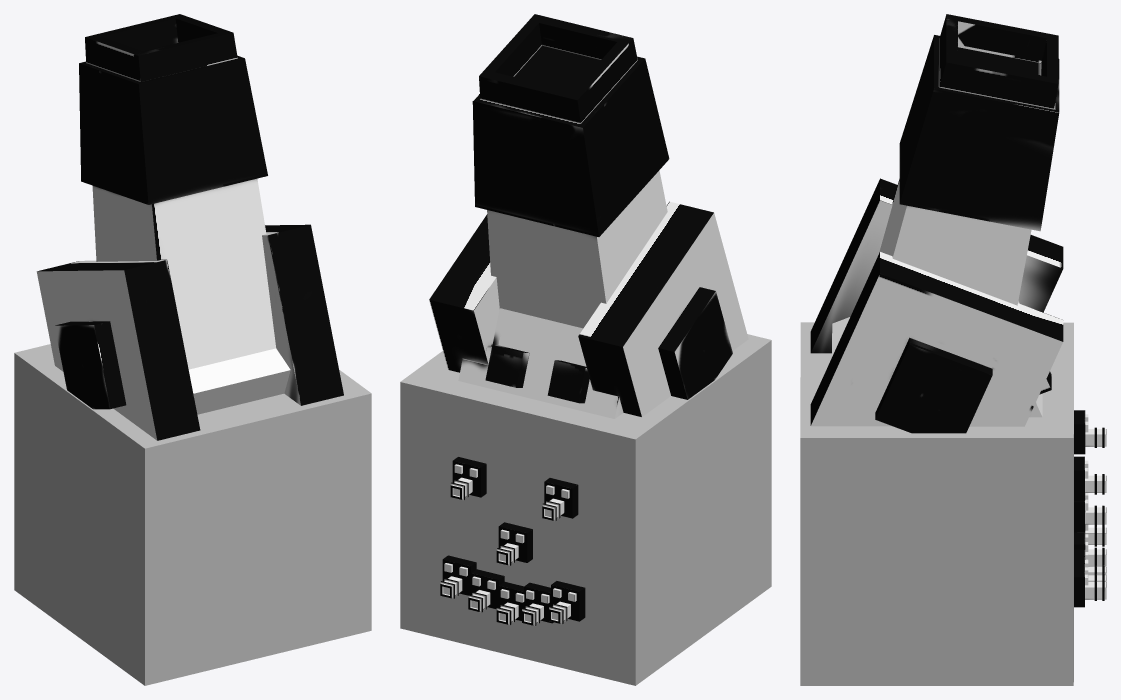
File: boss.obj
The picture shows the model from 3 angles, left to right: view 1: azimuth 30°, elevation 25°; view 2: azimuth 150°, elevation 25°; view 3: azimuth 270°, elevation 25°; orthographic projection. The views are drawn at different scales.
Parts seen in each view (by area): view 1: Cube, 立方体.004; view 2: Cube, 立方体.004, 立方体.005, 立方体.003, 立方体.006, 立方体.008, 立方体.009, 立方体.007, 立方体.002, 立方体.001; view 3: 立方体.004, Cube, 立方体.005, 立方体.003, 立方体.009, 立方体.008, 立方体.002.
Boxes of the visible parts, box(x1,y1,x2,y2) form: Cube: box(14, 344, 371, 685); 立方体.004: box(36, 14, 343, 440); Cube: box(400, 334, 771, 685); 立方体.004: box(429, 14, 748, 418); 立方体.005: box(542, 478, 578, 521); 立方体.003: box(450, 457, 486, 500); 立方体.006: box(549, 581, 585, 624); 立方体.008: box(496, 522, 532, 565); 立方体.009: box(440, 555, 476, 598); 立方体.007: box(468, 569, 504, 612); 立方体.002: box(522, 582, 553, 625); 立方体.001: box(496, 581, 524, 625); 立方体.004: box(810, 14, 1063, 433); Cube: box(800, 322, 1073, 685); 立方体.005: box(1074, 410, 1106, 454); 立方体.003: box(1074, 456, 1106, 500); 立方体.009: box(1074, 563, 1106, 607); 立方体.008: box(1074, 493, 1106, 532); 立方体.002: box(1074, 531, 1106, 566).
Bounding box in the file's own units: 1.45 × 3.44 × 1.62.
